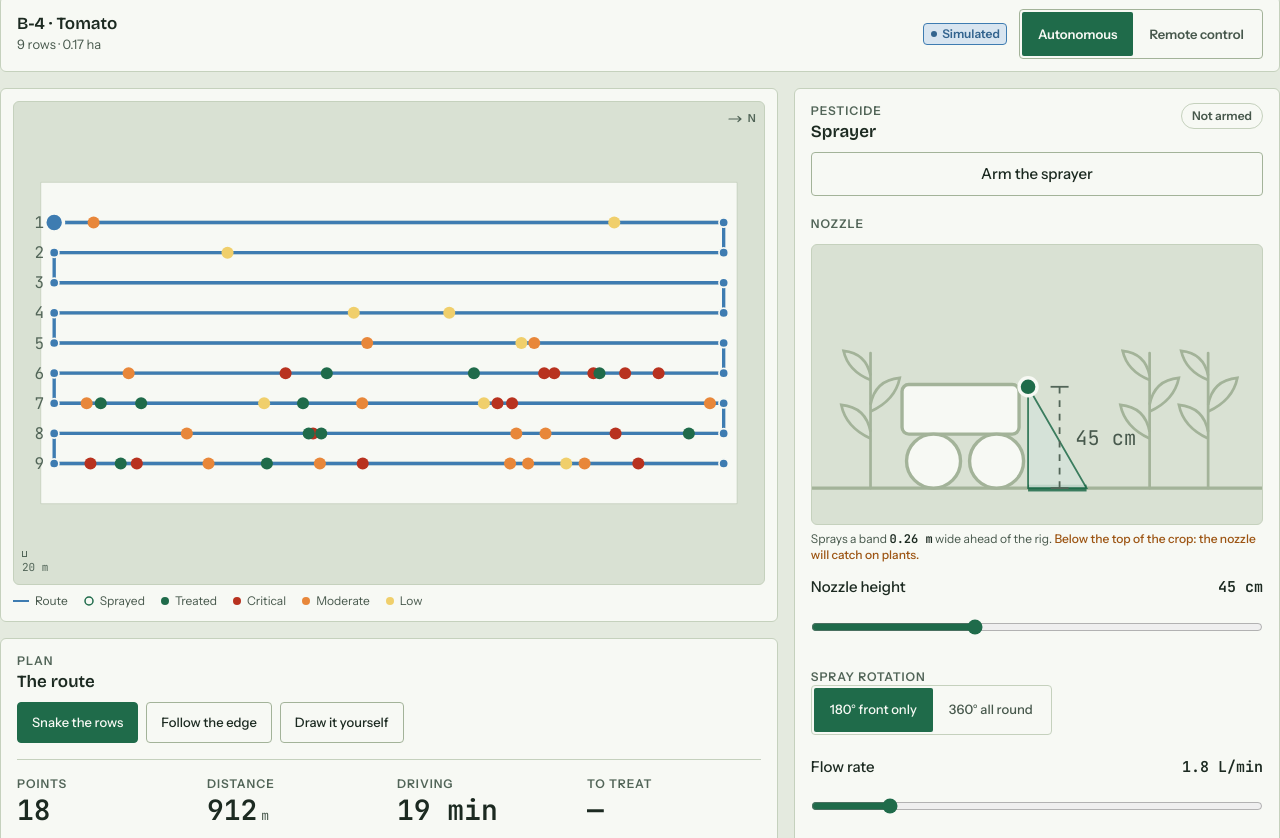
Test: MissionWorkspace › starts a custom route empty, and refuses to send one that goes nowhere
Click the button "Draw it yourself": (342, 722) [280,702,404,743]
(page scrolled)
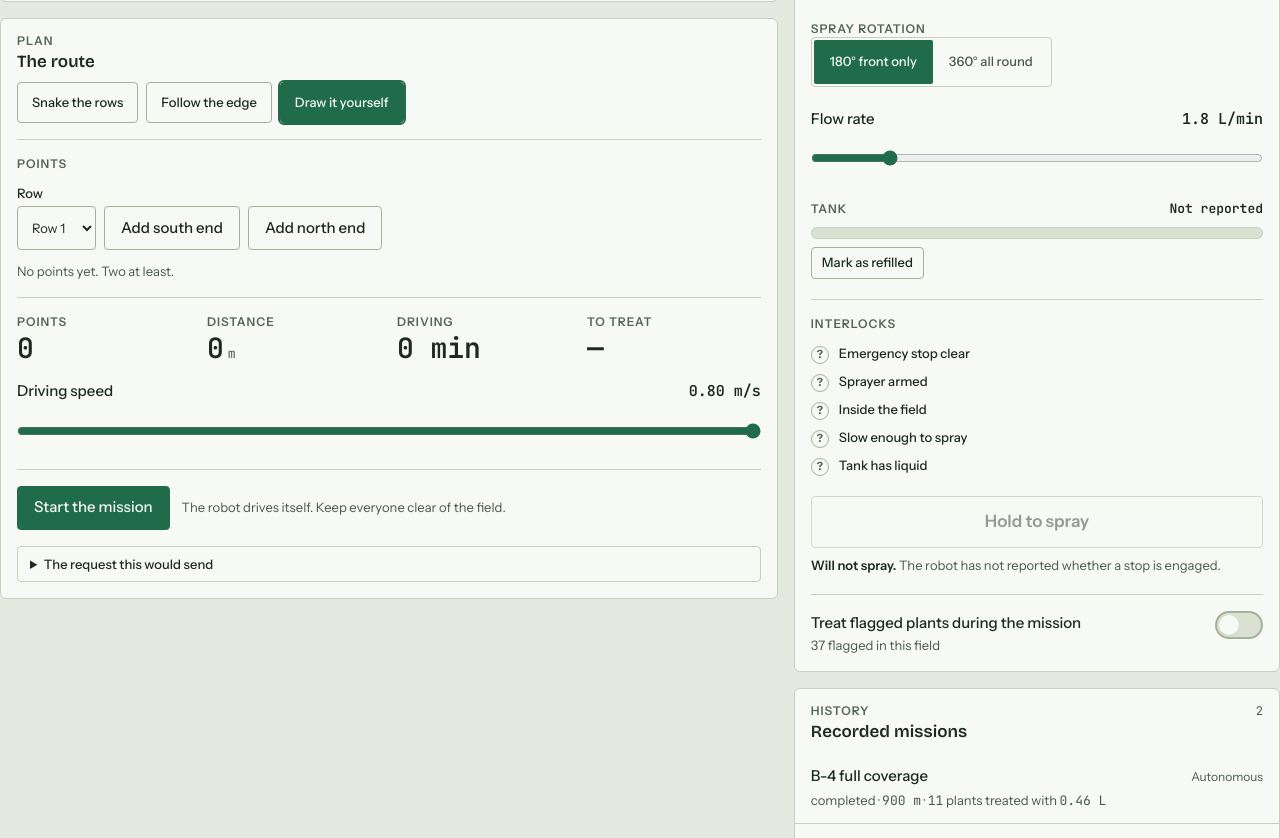
Expected: the text "No points yet. Two at least." is shown, [17,263,174,279]
Click the button "Start the mission": (93, 508) [17,486,170,530]
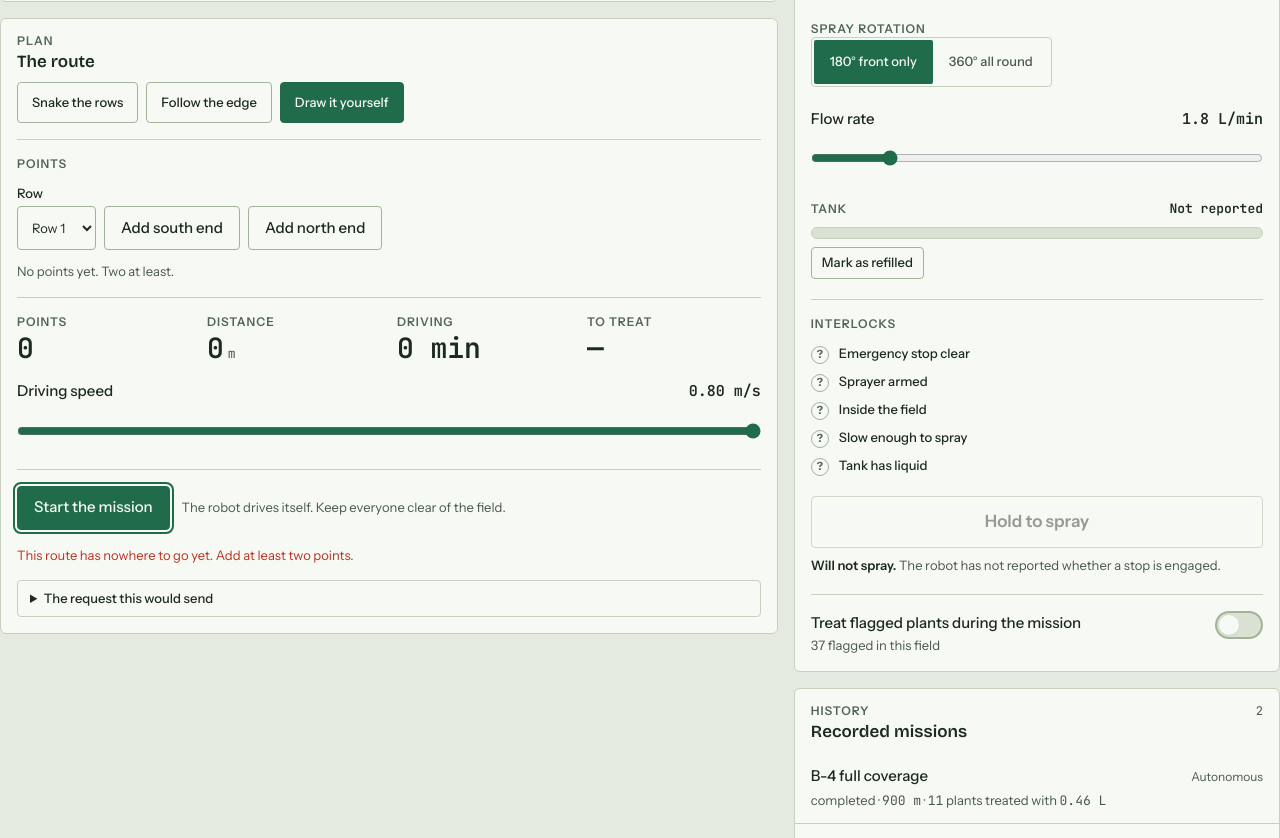
Expected: the message "This route has nowhere to go yet. Add at least two points." is shown, [17,547,354,563]
